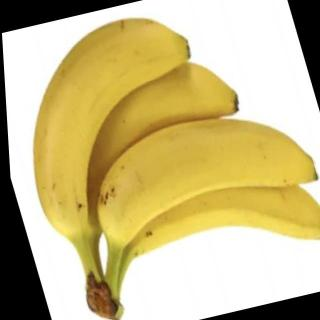banana: (0, 4, 235, 244), (28, 44, 268, 245), (70, 93, 320, 253), (105, 149, 320, 290)
